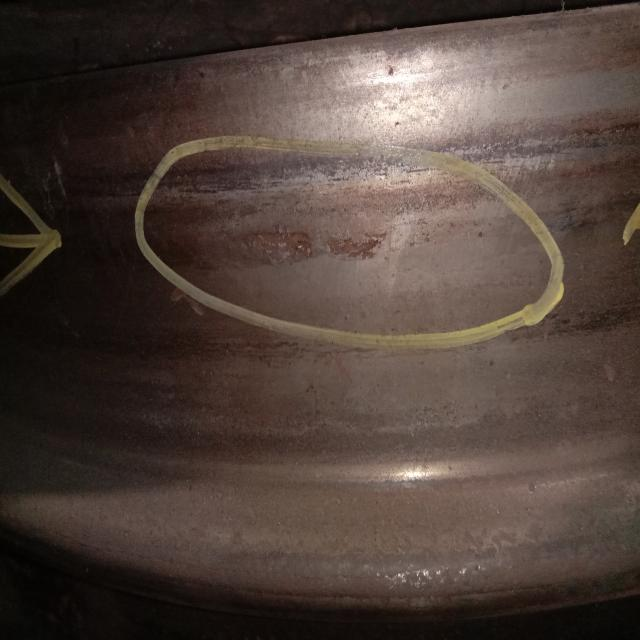Peeling: (230, 207, 400, 304)
